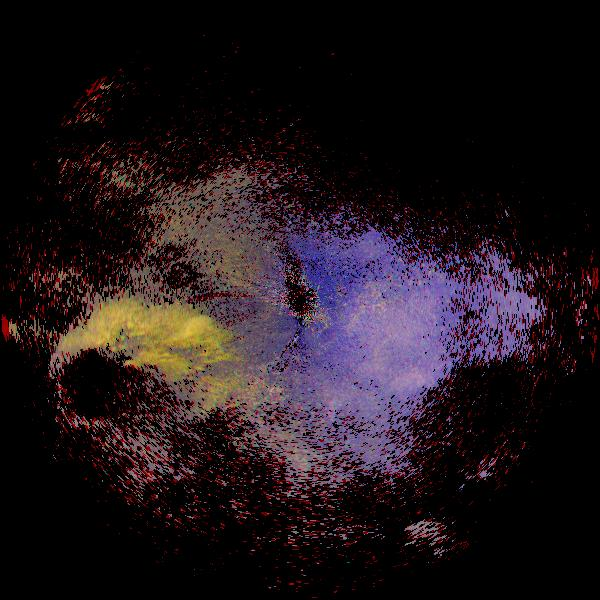roost: (19, 270, 205, 456), (90, 280, 249, 439)
